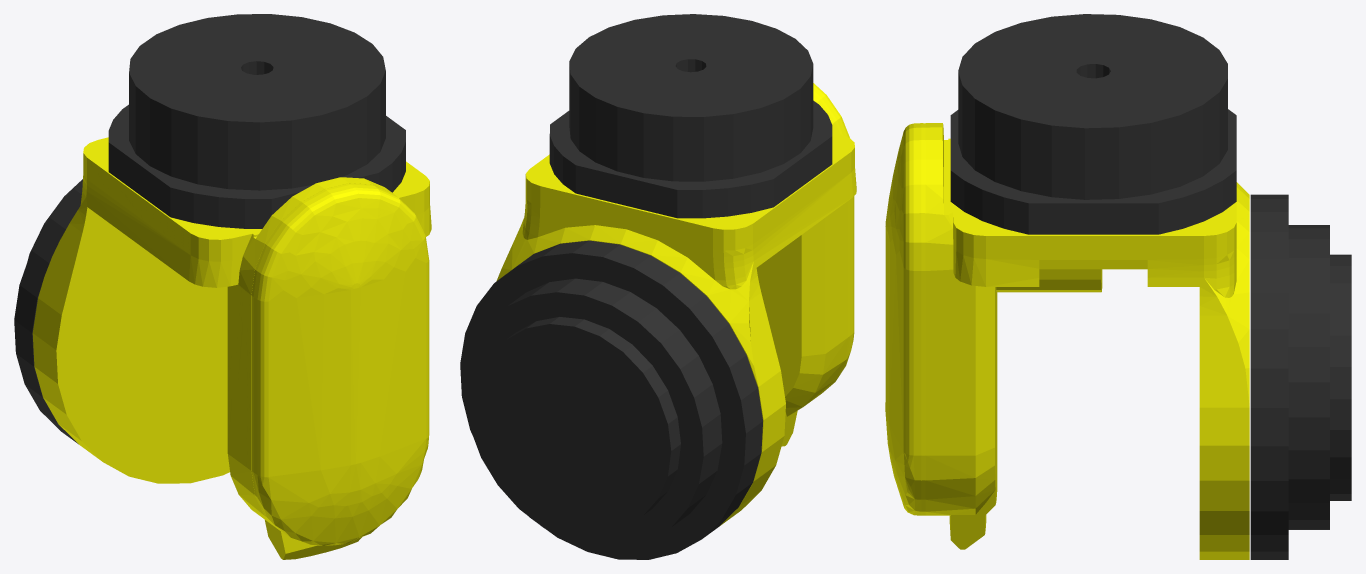
The picture shows the model from 3 angles, left to right: view 1: azimuth 30°, elevation 25°; view 2: azimuth 150°, elevation 25°; view 3: azimuth 270°, elevation 25°; orthographic projection. The views are drawn at different scales.
Parts seen in each view (by area): view 1: node; view 2: node; view 3: node.
Part boxes in pixels (bbox=[...]): node: bbox=[14, 14, 431, 559]; node: bbox=[460, 14, 856, 559]; node: bbox=[885, 14, 1351, 559].
Size of the model in its own units: 169 by 240 by 215.
